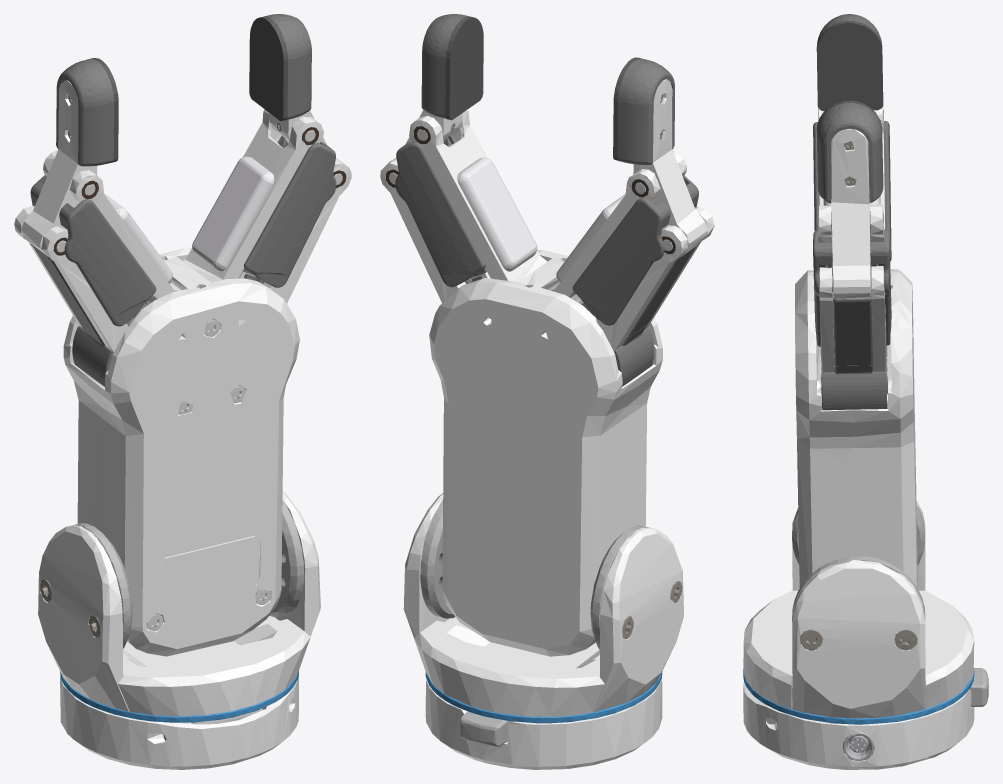
File: onrobot-rg2.glb
The picture shows the model from 3 angles, left to right: view 1: azimuth 30°, elevation 25°; view 2: azimuth 150°, elevation 25°; view 3: azimuth 270°, elevation 25°; orthographic projection. The views are drawn at different scales.
Parts seen in each view (by area): view 1: onrobot-rg2; view 2: onrobot-rg2; view 3: onrobot-rg2.
Boxes of the visible parts, x1,y1,x2,y2 form: onrobot-rg2: (14,14,351,769); onrobot-rg2: (380,14,714,769); onrobot-rg2: (743,14,988,769).
Size of the model in its own units: 104 by 225 by 75.46.
